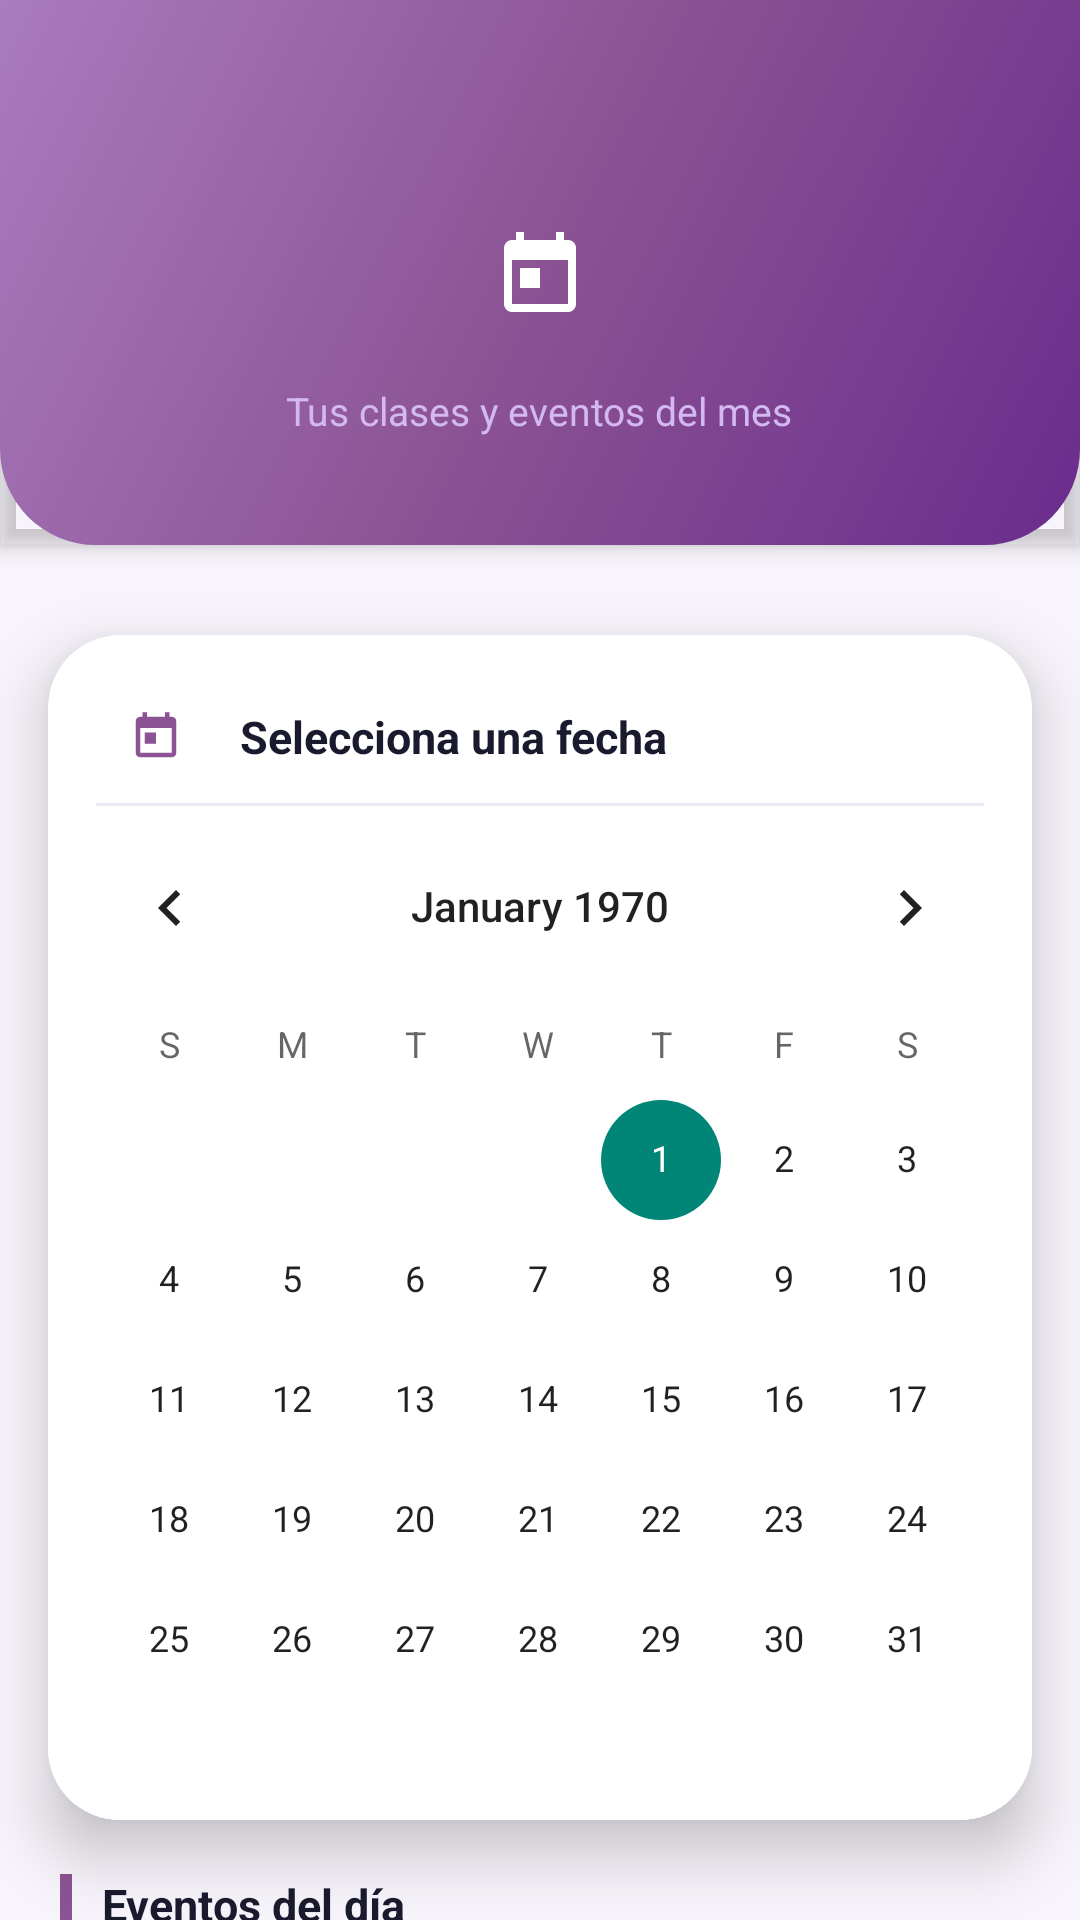

Locate icon controls on the screen. Image size 1080×1920, boxes as box(x1, y1, x2, y2).
calendar: box(504, 232, 576, 312), box(135, 712, 177, 758)
